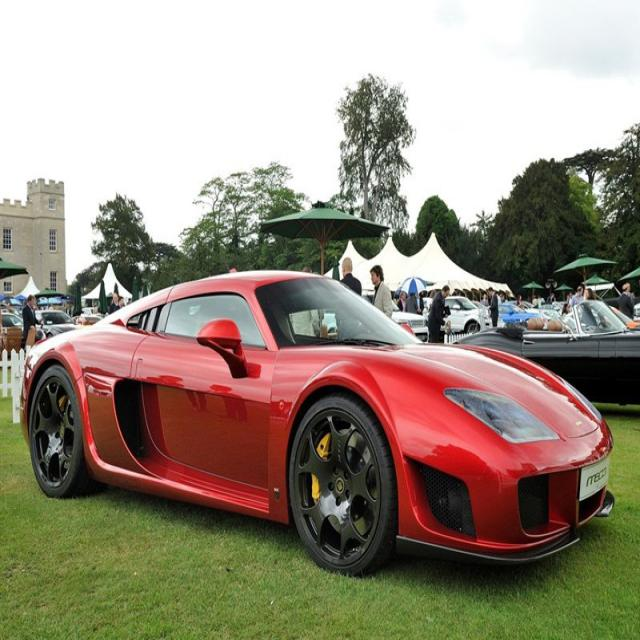front_bumper: (387, 422, 614, 563)
front_glass: (254, 276, 421, 356)
front_right_side_door: (130, 286, 280, 497)
front_right_side_light: (440, 384, 560, 448)
front_right_side_mirror: (198, 316, 247, 373)
wheel: (290, 396, 391, 571), (28, 371, 86, 497)
